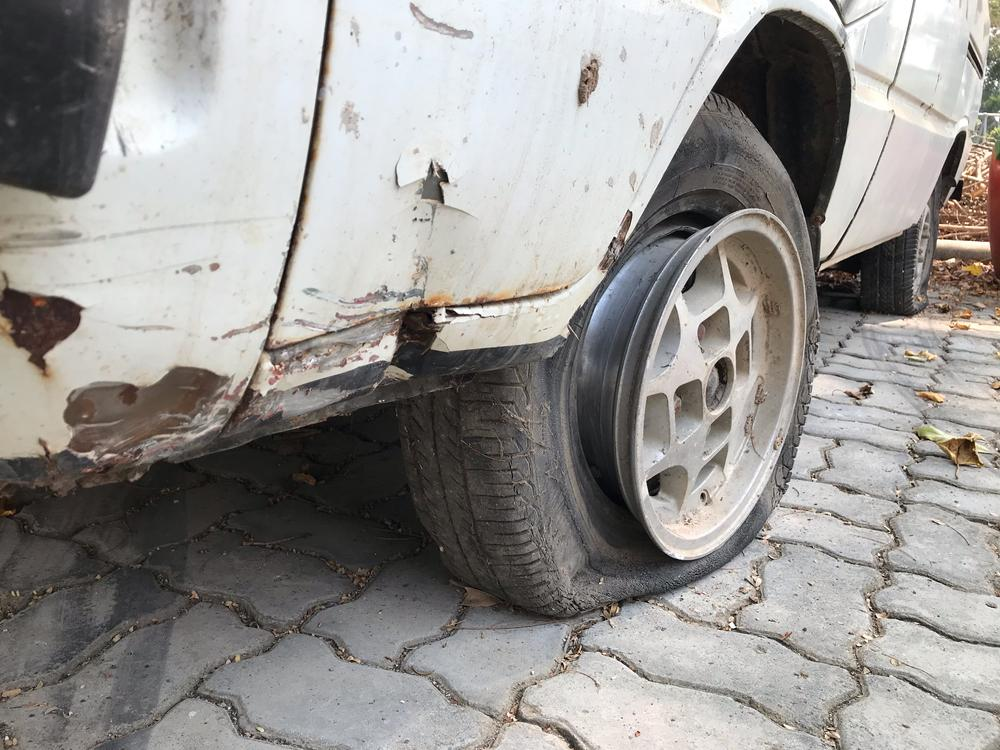tire flat: (399, 94, 819, 619)
